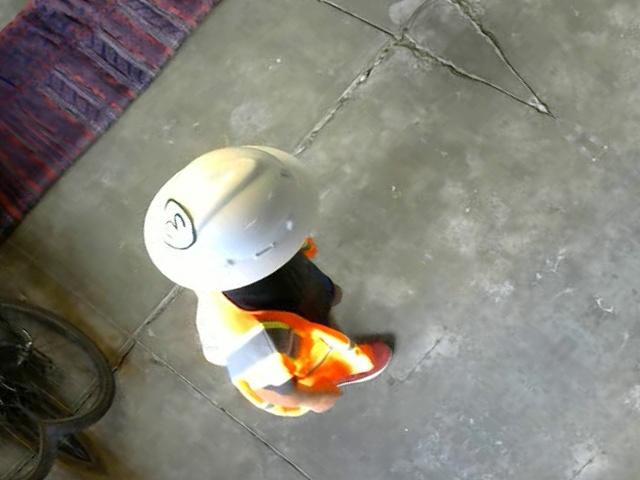three: (144, 196, 207, 253)
